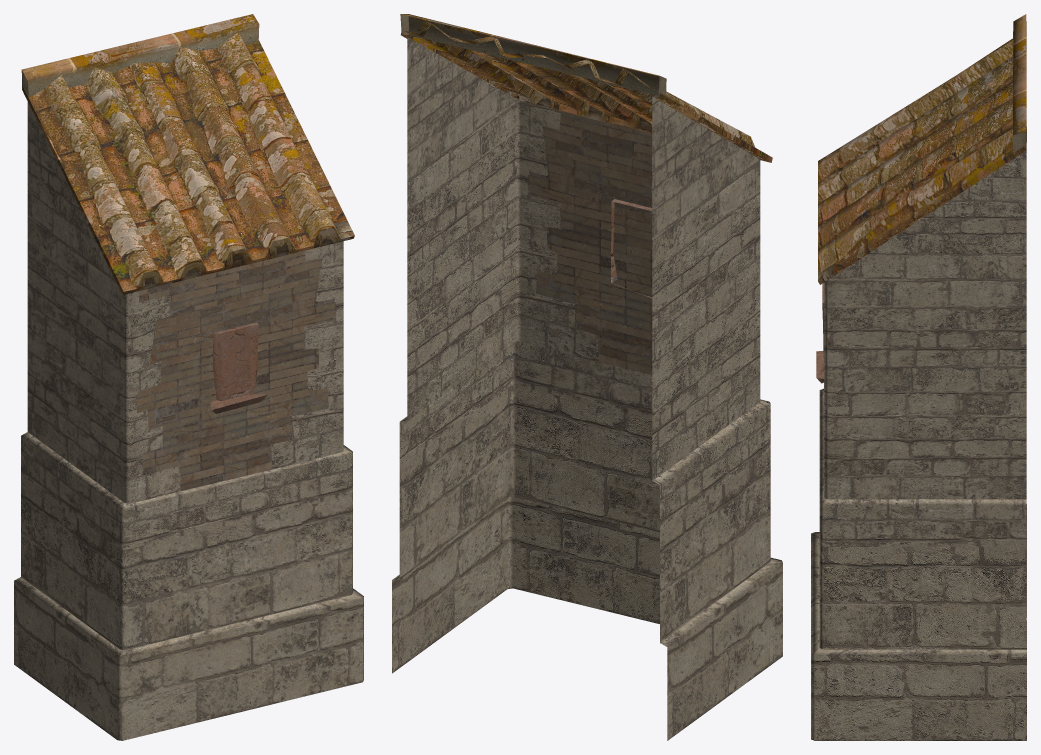
The model's file is Basic13.fbx.
3 views of the same model, side by side, from view 1: azimuth 30°, elevation 25°; view 2: azimuth 150°, elevation 25°; view 3: azimuth 270°, elevation 25° (orthographic). The views are drawn at different scales.
Parts seen in each view (by area): view 1: LV_Campagna_City_CommonSmallBuilding03_SM_CNH; view 2: LV_Campagna_City_CommonSmallBuilding03_SM_CNH; view 3: LV_Campagna_City_CommonSmallBuilding03_SM_CNH.
Part boxes in pixels (<box>): LV_Campagna_City_CommonSmallBuilding03_SM_CNH: <box>14,14,363,740</box>; LV_Campagna_City_CommonSmallBuilding03_SM_CNH: <box>392,14,782,740</box>; LV_Campagna_City_CommonSmallBuilding03_SM_CNH: <box>811,14,1026,740</box>.
Bounding box in the file's own units: 0.72 × 1.66 × 0.5329.
